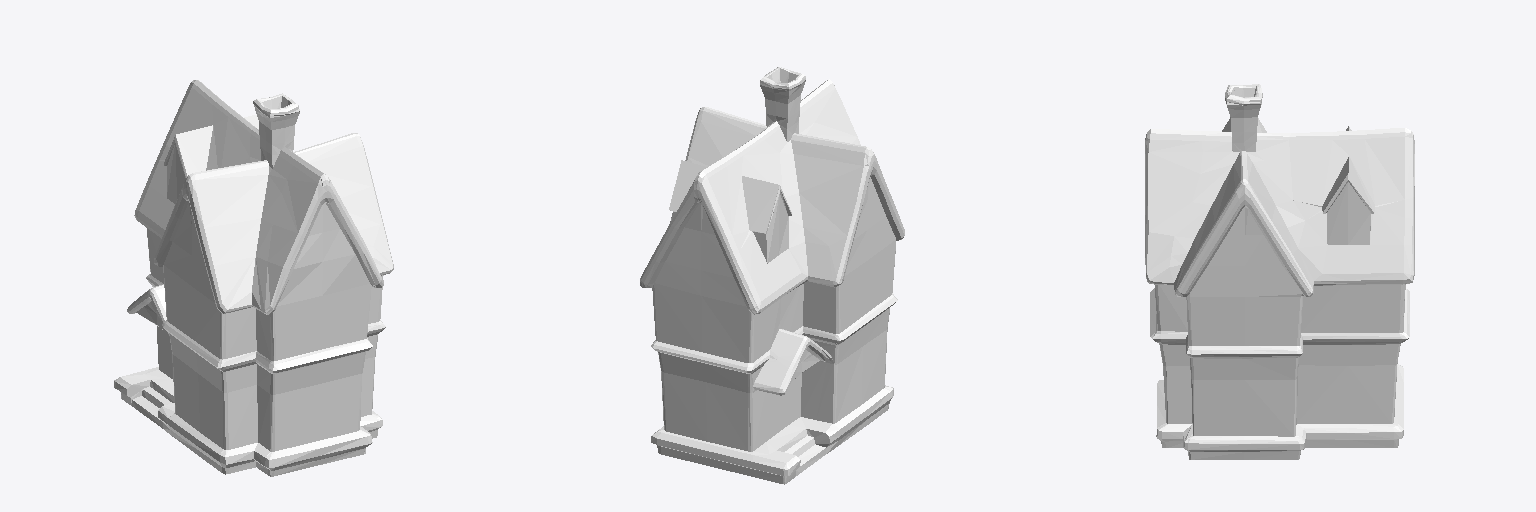
The model's file is House-1.obj.
3 renders of one model, left to right at view 1: azimuth 30°, elevation 25°; view 2: azimuth 150°, elevation 25°; view 3: azimuth 270°, elevation 25°, orthographic.
Parts seen in each view (by area): view 1: House_1; view 2: House_1; view 3: House_1.
Boxes of the visible parts, <box> form: House_1: <box>114,80,393,476</box>; House_1: <box>640,67,904,484</box>; House_1: <box>1145,84,1414,459</box>.
Bounding box in the file's own units: 2.65 × 4.84 × 3.53.